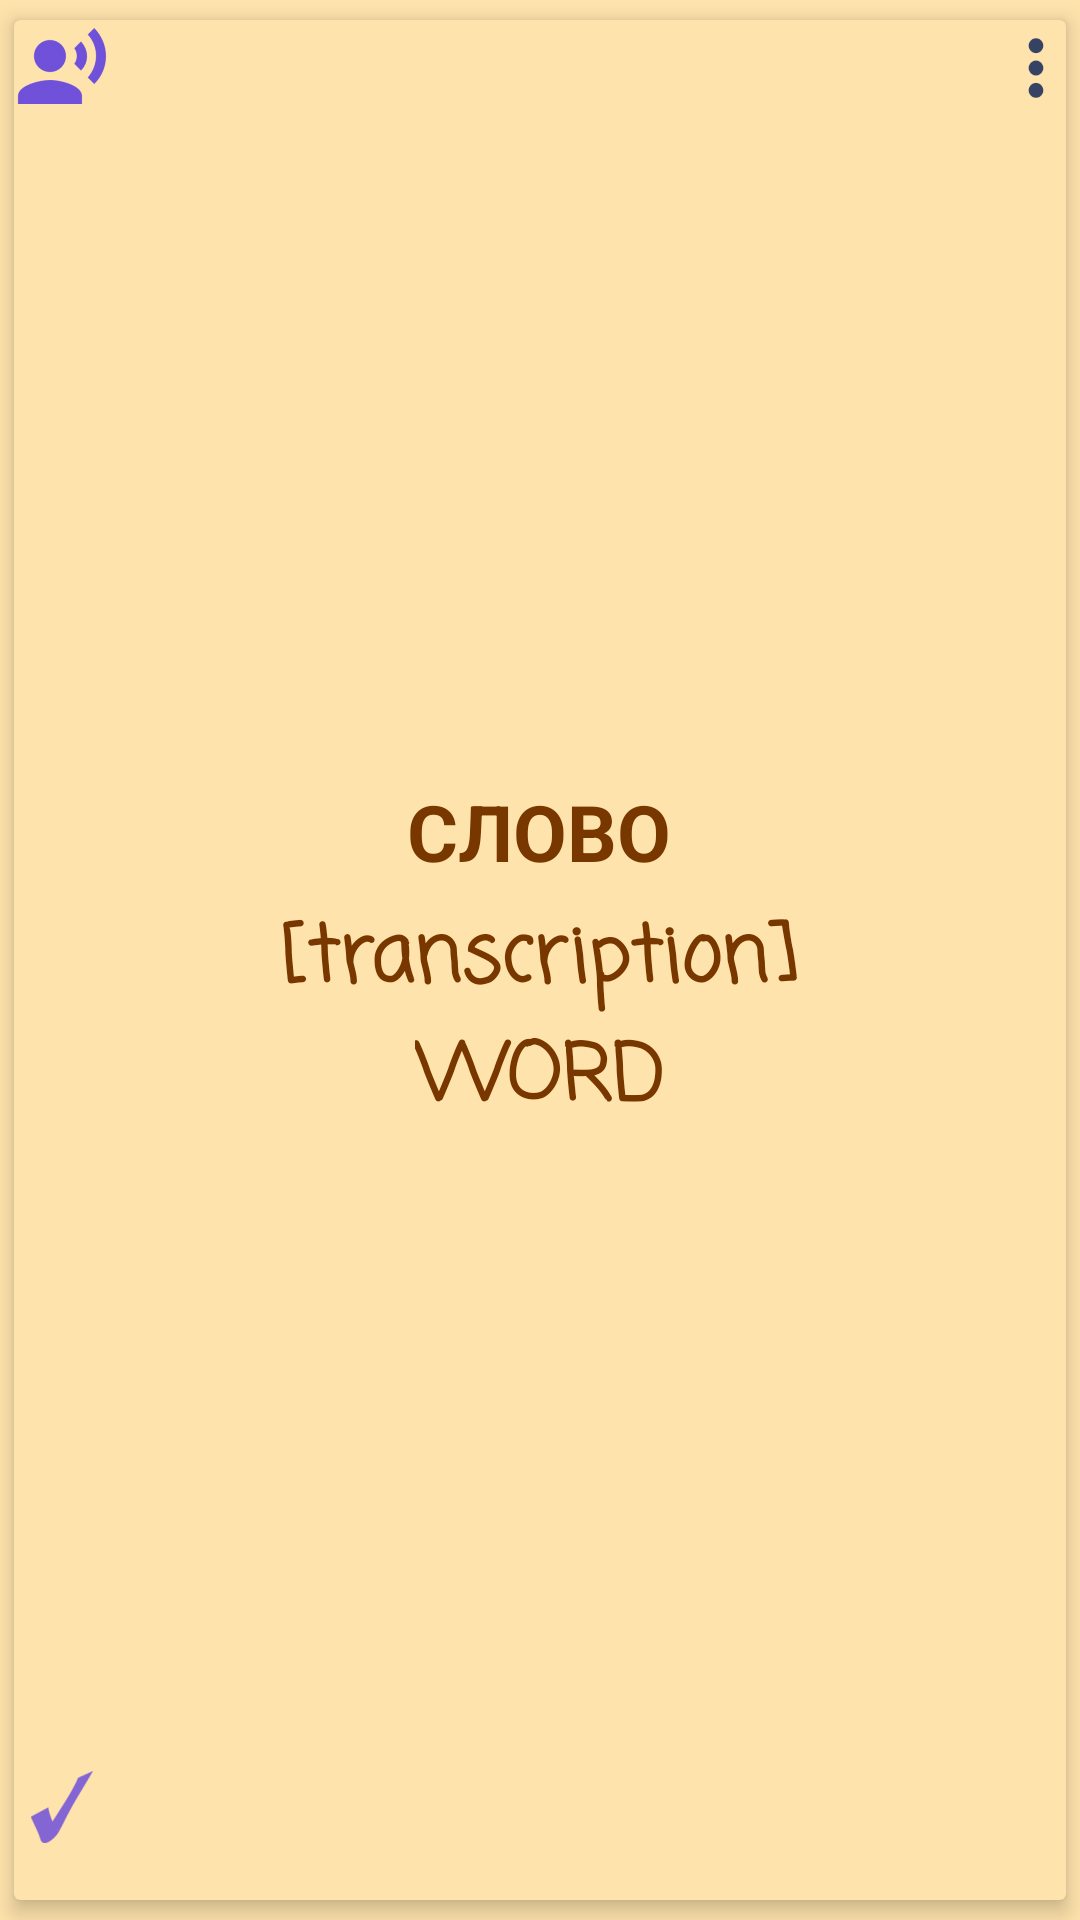

Icon bounding boxes for this 1080x1920 phone screenshot, format (x1, y1, x2, y2):
popup menu: (1028, 38, 1044, 98)
sound: (18, 28, 106, 104)
